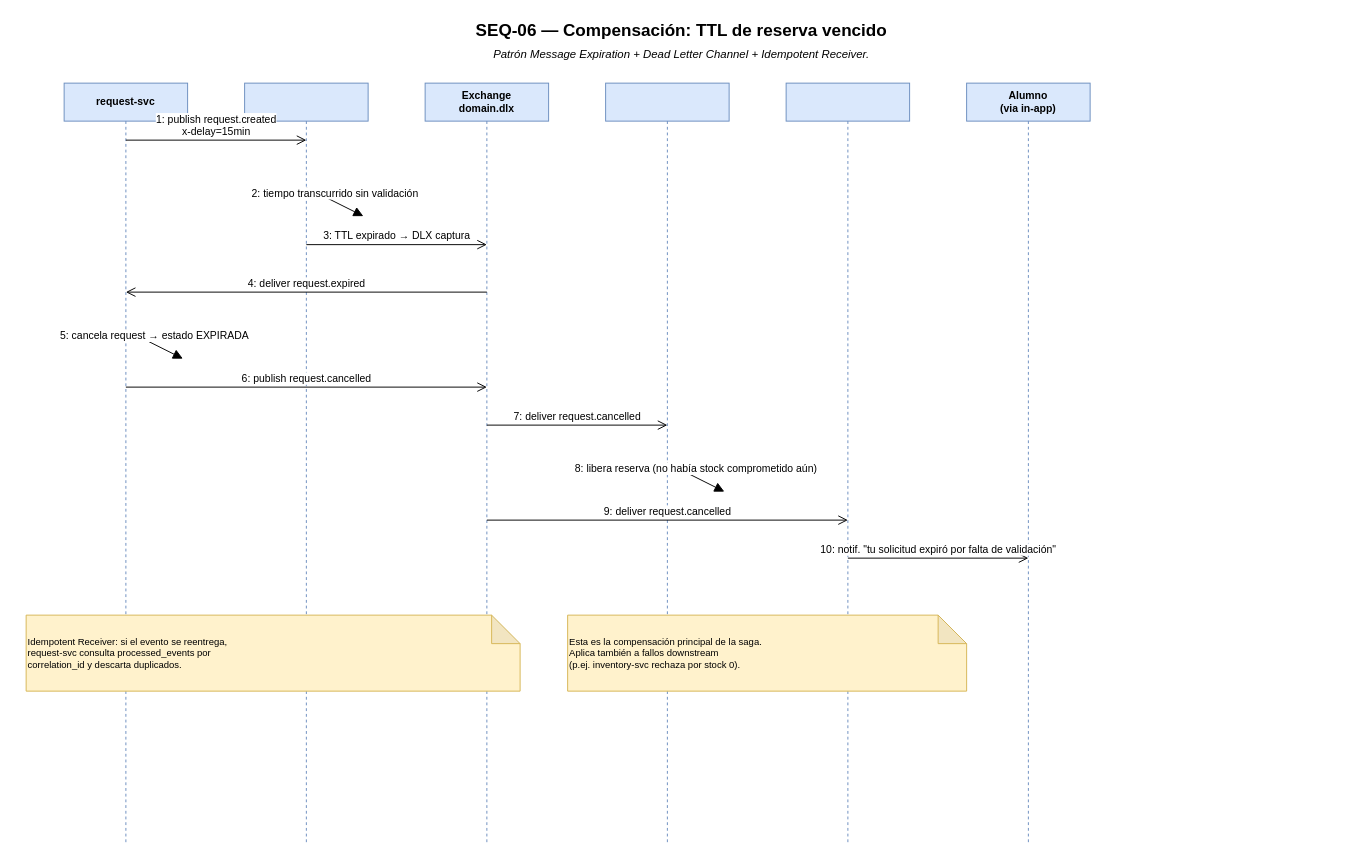
Some shapes in this 1362 by 860 pixel diagram are drawn without their labels. The box of each missing label's shape, as (x1, y1, x2, y2) in pixels:
Exchange domain.delayed: (244, 82, 368, 843)
inventory-svc: (605, 82, 729, 843)
notification-svc: (785, 82, 910, 843)
